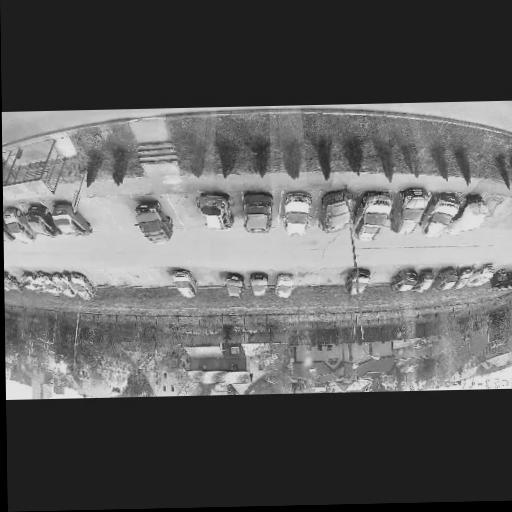busy: (128, 199, 177, 247), (351, 192, 397, 243), (314, 189, 359, 233), (422, 191, 465, 237), (275, 191, 318, 236), (191, 190, 235, 233), (391, 188, 429, 234), (238, 190, 275, 235), (454, 193, 494, 229), (47, 204, 90, 235), (59, 270, 99, 301), (22, 204, 59, 237), (4, 206, 33, 243), (167, 268, 201, 298), (269, 270, 298, 300), (390, 268, 425, 292), (344, 266, 374, 294), (32, 273, 62, 298), (221, 271, 248, 298), (432, 266, 461, 290), (17, 272, 46, 295), (246, 271, 270, 297), (469, 264, 494, 288), (4, 271, 21, 292)
free: (175, 196, 207, 233), (83, 201, 114, 232), (114, 199, 141, 234), (482, 195, 498, 218), (156, 270, 174, 288), (113, 271, 133, 287), (321, 268, 342, 283), (197, 271, 219, 285), (297, 271, 318, 285), (133, 272, 152, 287), (374, 268, 392, 283), (499, 203, 512, 222), (93, 274, 112, 285)
